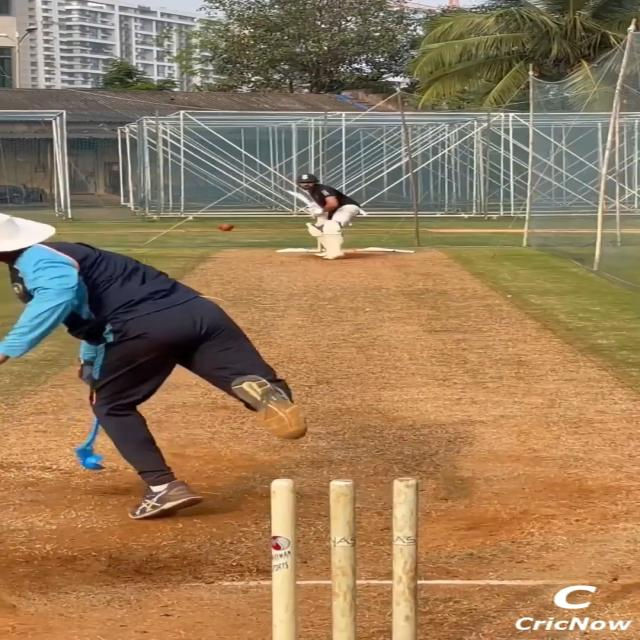ball: (218, 222, 235, 232)
stump: (268, 477, 420, 640)
